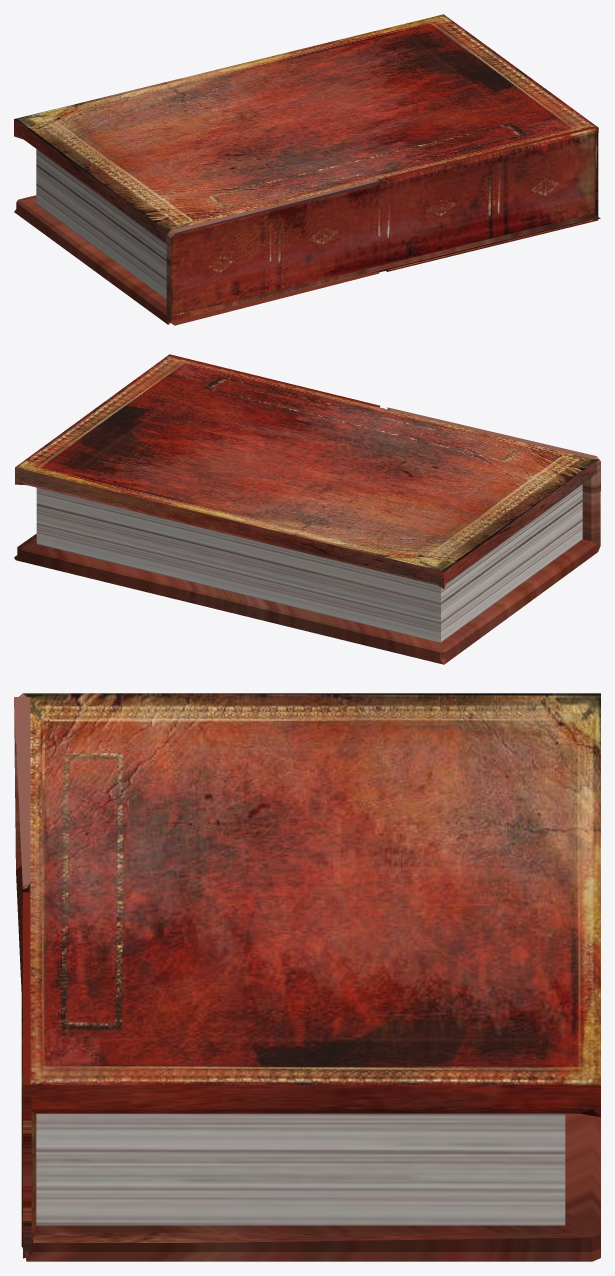
File: Book.fbx
3 renders of one model, top to bottom at view 1: azimuth 30°, elevation 25°; view 2: azimuth 150°, elevation 25°; view 3: azimuth 270°, elevation 25°, orthographic. The views are drawn at different scales.
Visible parts, largest first — view 1: BookSpine, Pages; view 2: BookSpine, Pages; view 3: BookSpine, Pages.
Boxes of the visible parts, <box> form: BookSpine: <box>14,14,600,325</box>; Pages: <box>36,149,166,298</box>; BookSpine: <box>14,354,600,664</box>; Pages: <box>36,484,582,642</box>; BookSpine: <box>14,693,600,1261</box>; Pages: <box>36,1113,565,1225</box>.
Size of the model in its own units: 323 by 66.6 by 203.
Materials: 2 (2 with a texture image).
